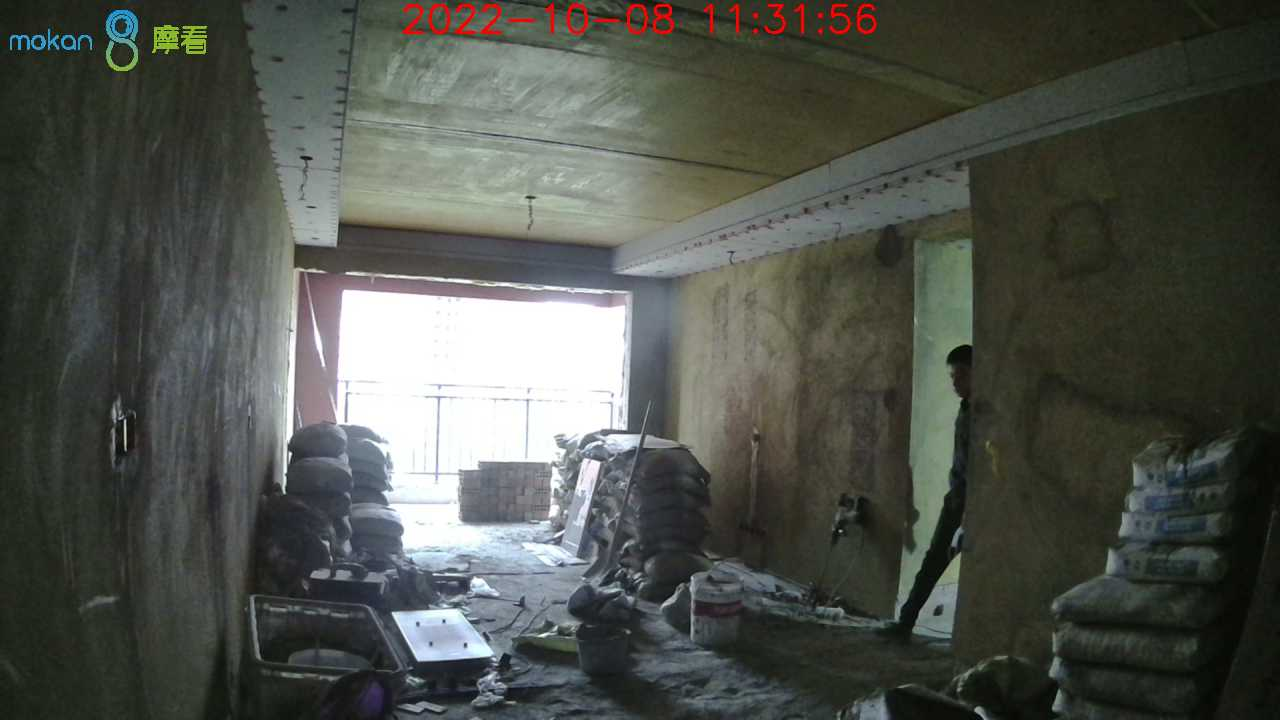people: (871, 344, 973, 638)
window: (336, 288, 626, 478)
